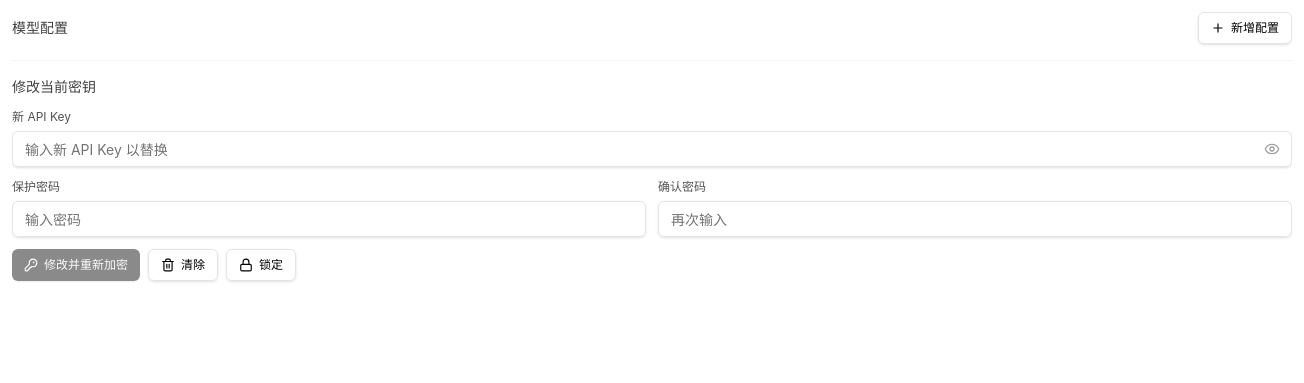
APISettings - Mode C: unlocked with API key › shows weak password error when editing API key
Type "sk-new-key" into the password field labelled "新 API Key" at (652, 149), box [12, 131, 1292, 167]
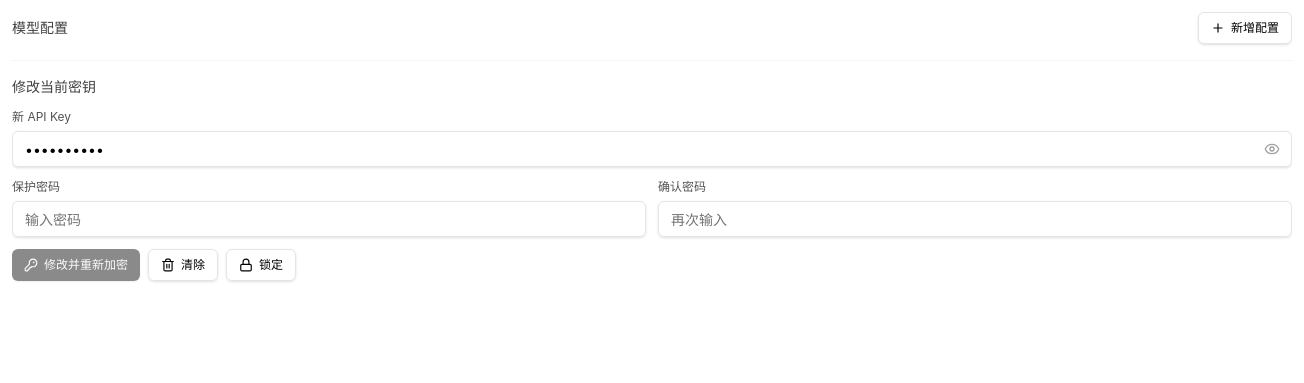
Type "weak123" into the password field labelled "保护密码" at (329, 219), box [12, 201, 646, 237]
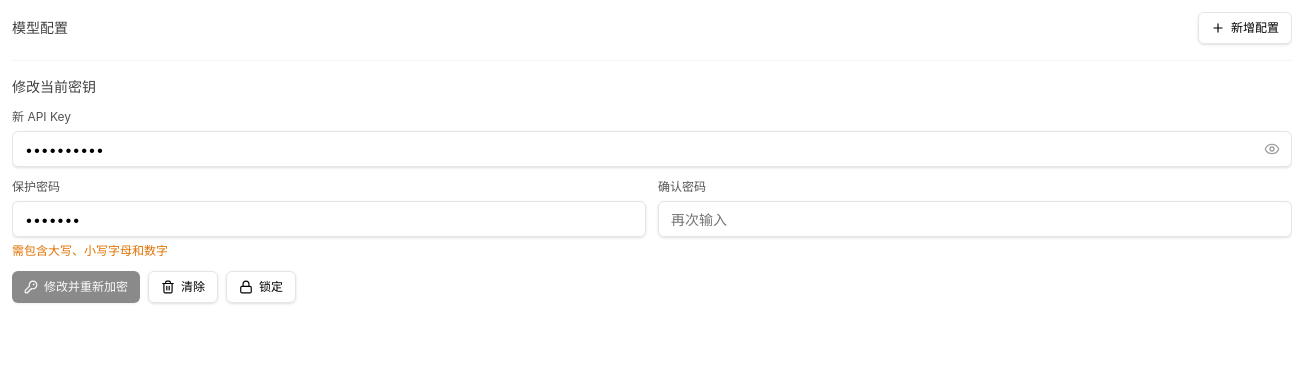
Type "weak123" into the password field labelled "确认密码" at (975, 219), box [658, 201, 1292, 237]
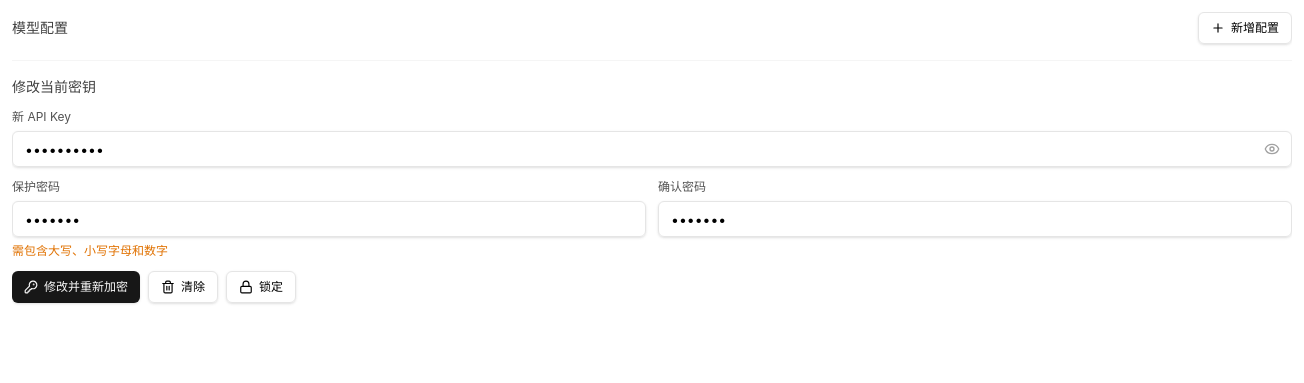
Click the button "修改并重新加密" at (76, 287), box [12, 271, 140, 303]
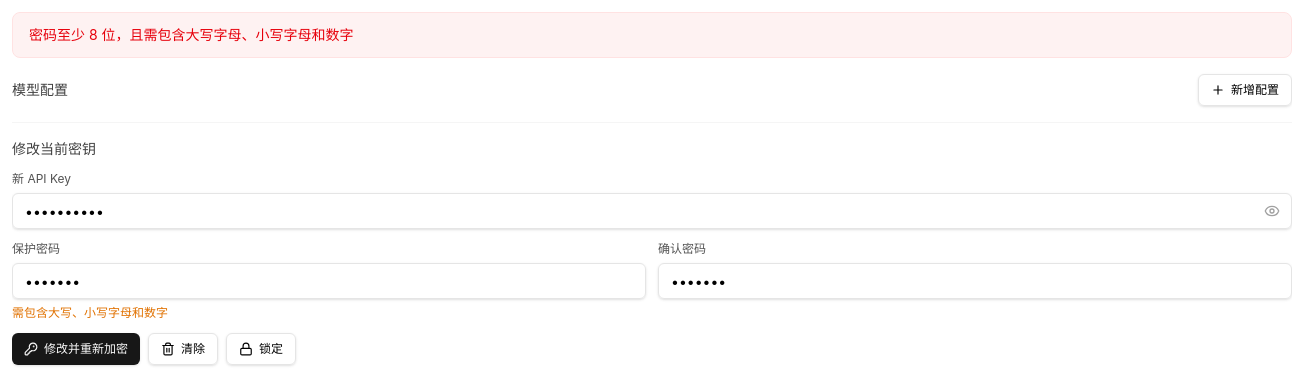
Now the text "密码至少 8 位，且需包含大写字母、小写字母和数字" is shown, box [12, 12, 1292, 58]
